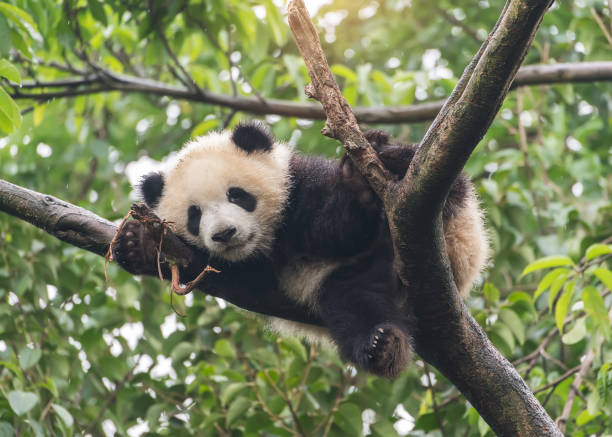panda: (75, 97, 310, 296)
